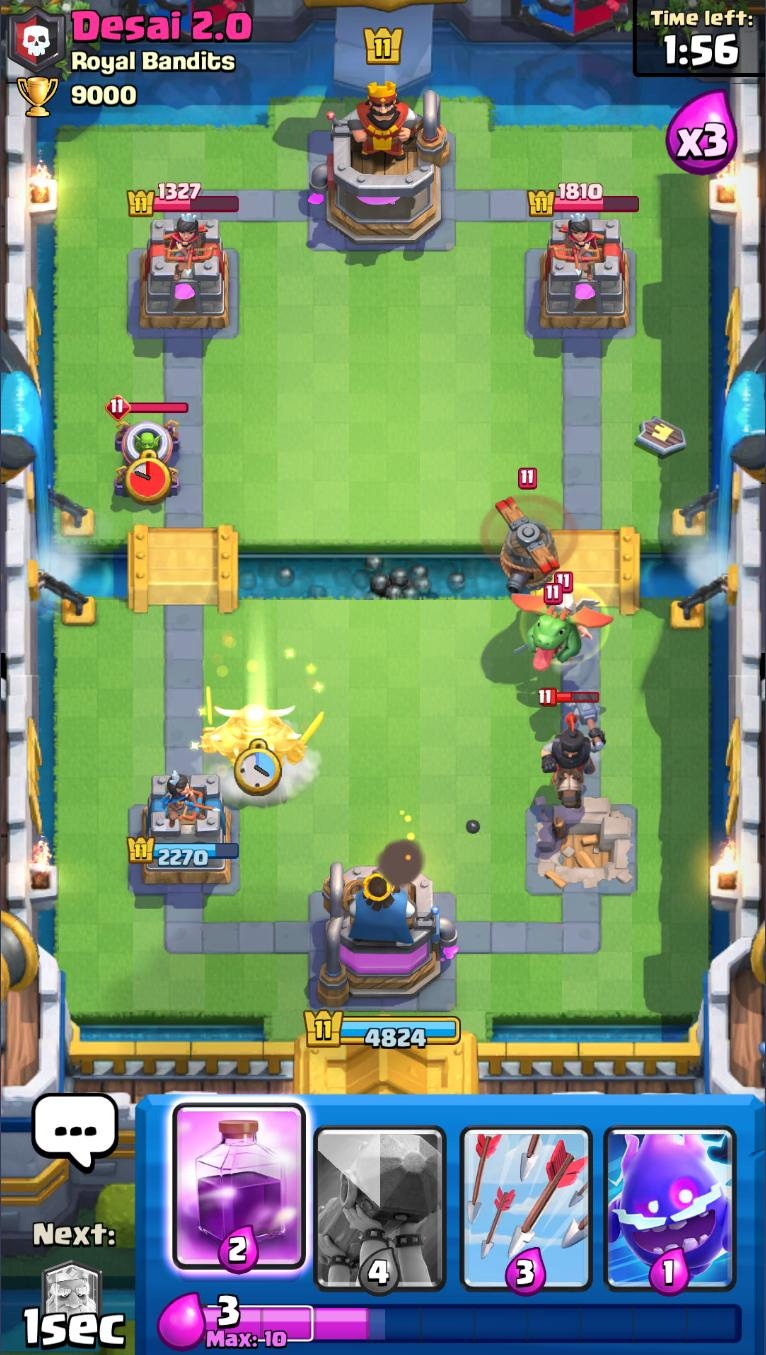ArrowDeck: (455, 1099, 598, 1295)
BabyDragon: (510, 584, 613, 669)
BattleRamDeck: (310, 1095, 451, 1290)
BattleRamNext: (41, 1262, 105, 1343)
DarkPrince: (535, 688, 612, 810)
ElectroSpiritDeck: (597, 1097, 742, 1298)
Elixir: (203, 1296, 744, 1351)
EnemyTower: (135, 216, 234, 331), (537, 216, 633, 333)
EvoMortar: (104, 393, 189, 501)
FlyingMachine: (480, 466, 575, 595)
Healer: (538, 572, 601, 642)
KingTower: (307, 78, 453, 247)
MyKingHP: (302, 1010, 462, 1053)
MyKingTower: (315, 859, 460, 1009)
MyPekka: (201, 682, 325, 775)
MyPrincessTower: (128, 772, 242, 890)
MyPrincessTowerBrocken: (526, 798, 641, 900)
MyPrincessTowerHP: (127, 836, 241, 869)
RageDeck: (166, 1096, 312, 1295)
TowerPrincessHP: (528, 182, 640, 219), (128, 182, 241, 218)
